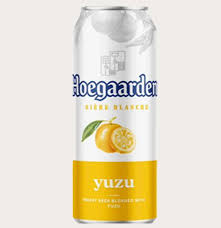can: (71, 2, 162, 228)
